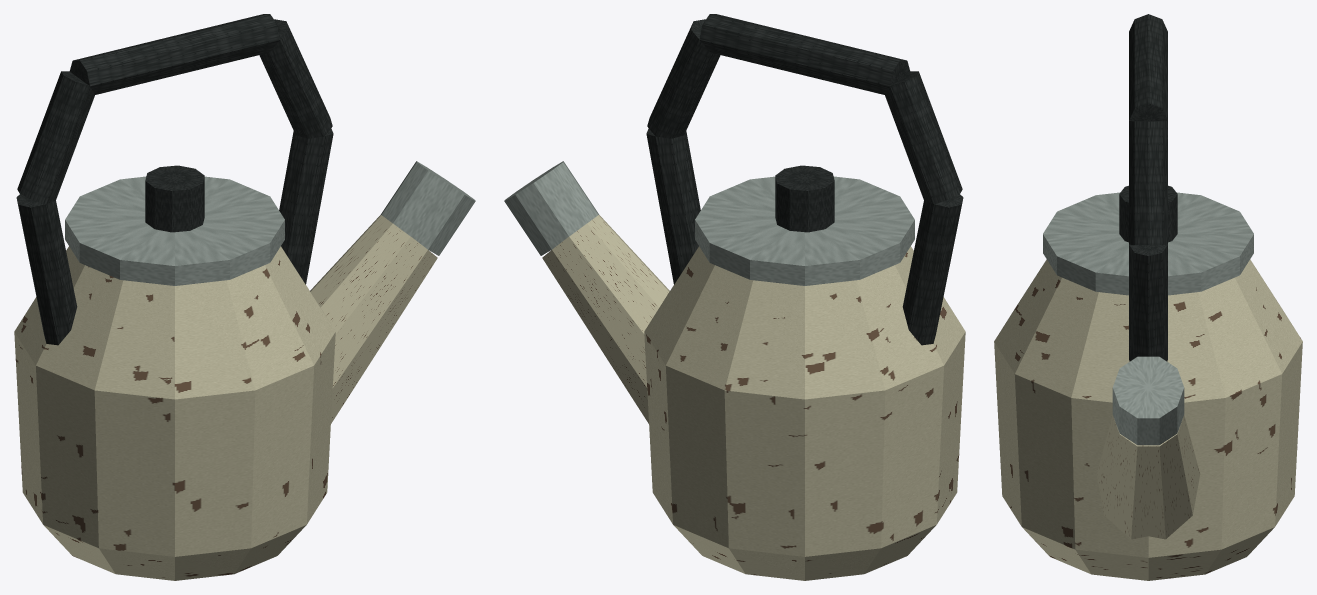
Rendered from CIS_EnamelKettle.obj.
3 views of the same model, side by side, from view 1: azimuth 30°, elevation 25°; view 2: azimuth 150°, elevation 25°; view 3: azimuth 270°, elevation 25° (orthographic). The views are drawn at different scales.
Parts seen in each view (by area): view 1: CIS_EnamelKettle; view 2: CIS_EnamelKettle; view 3: CIS_EnamelKettle.
Boxes of the visible parts, x1,y1,x2,y2 form: CIS_EnamelKettle: (14, 14, 475, 580); CIS_EnamelKettle: (504, 14, 965, 580); CIS_EnamelKettle: (994, 14, 1302, 580).
Size of the model in its own units: 0.3078 by 0.322 by 0.19.
Materials: 3 (3 with a texture image).
